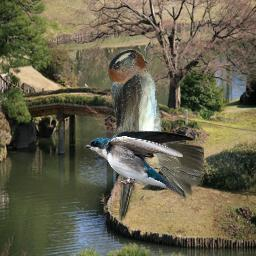Swallow: (107, 49, 204, 223), (84, 129, 195, 198)
